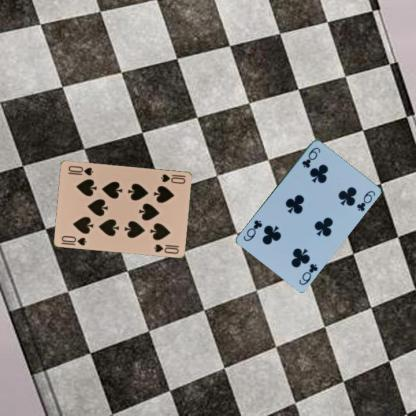10s: (158, 171, 187, 185), (59, 233, 88, 247)
6c: (299, 144, 322, 169), (296, 261, 319, 286)
